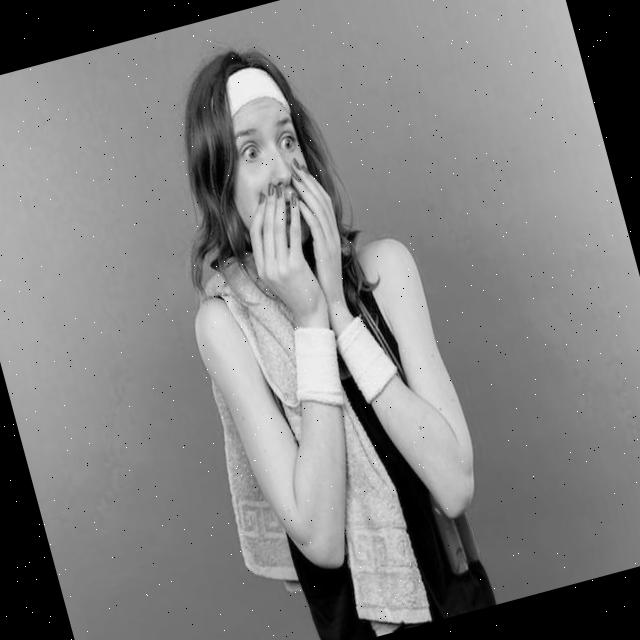Fear: (222, 76, 324, 249)
